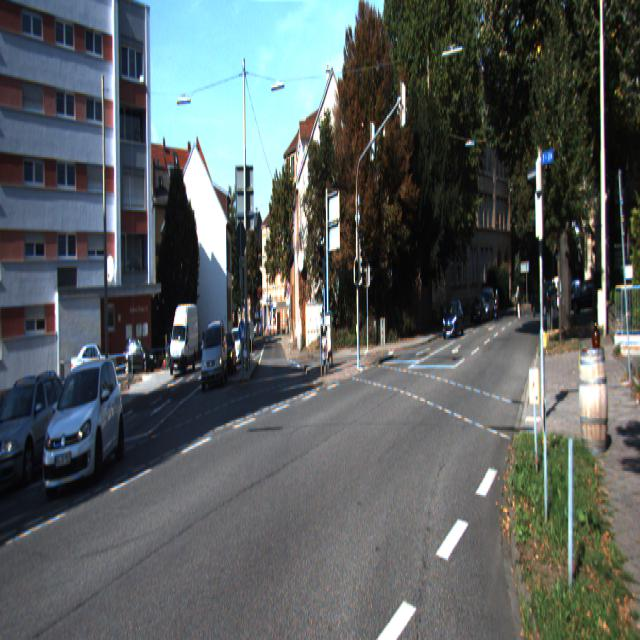Car: (41, 352, 126, 502), (0, 363, 72, 495), (168, 303, 199, 376), (201, 317, 227, 391), (70, 342, 113, 385), (442, 298, 463, 339)
